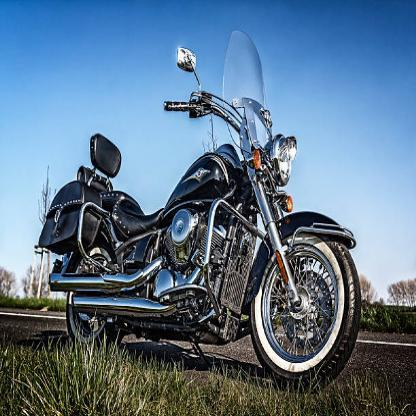Motorcycle: (39, 33, 364, 396)
